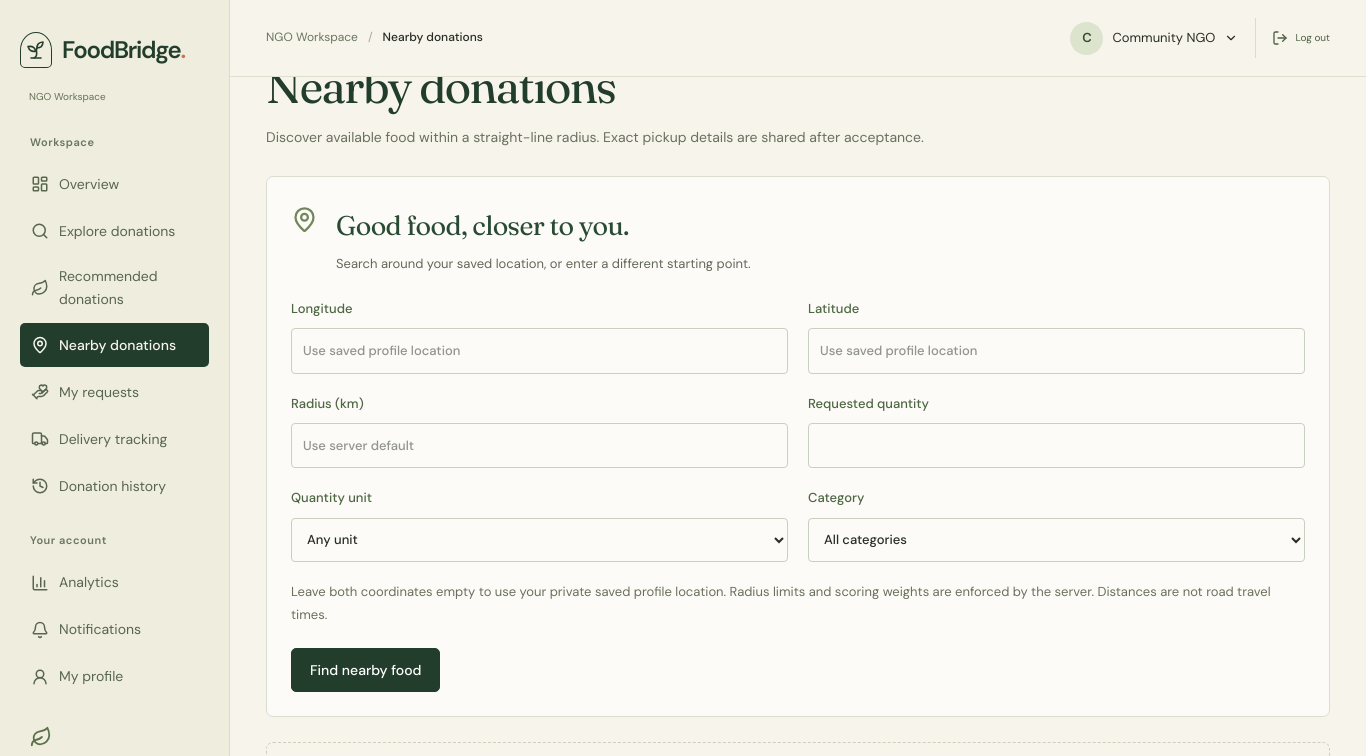
Test: location and matching interface › provides useful no-match and retry states
(page scrolled)
Submit the form named "Donation discovery", box [266,176,1330,717]
(page scrolled)
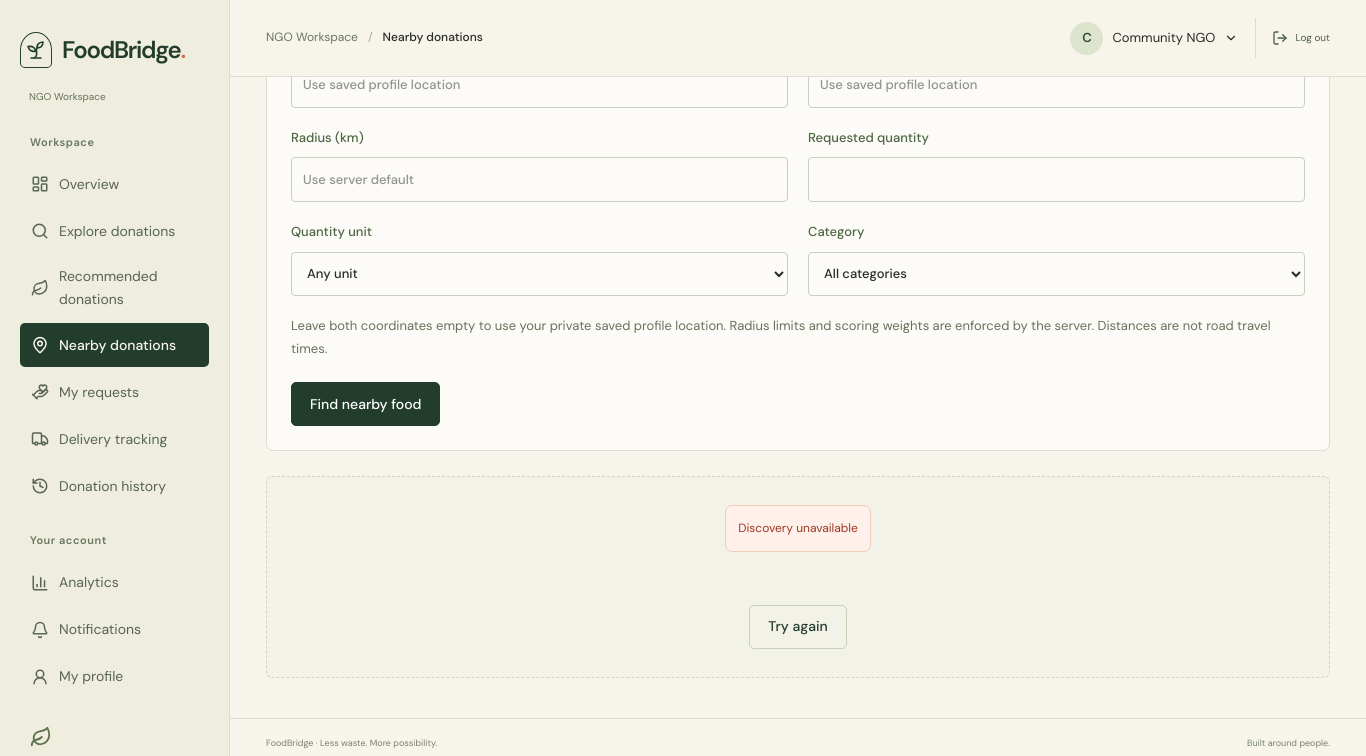
Now the message reads "Discovery unavailable", box [738,520,858,536]
Click the button "Try again".
click(798, 627)  # box [749,605,847,649]
(page scrolled)
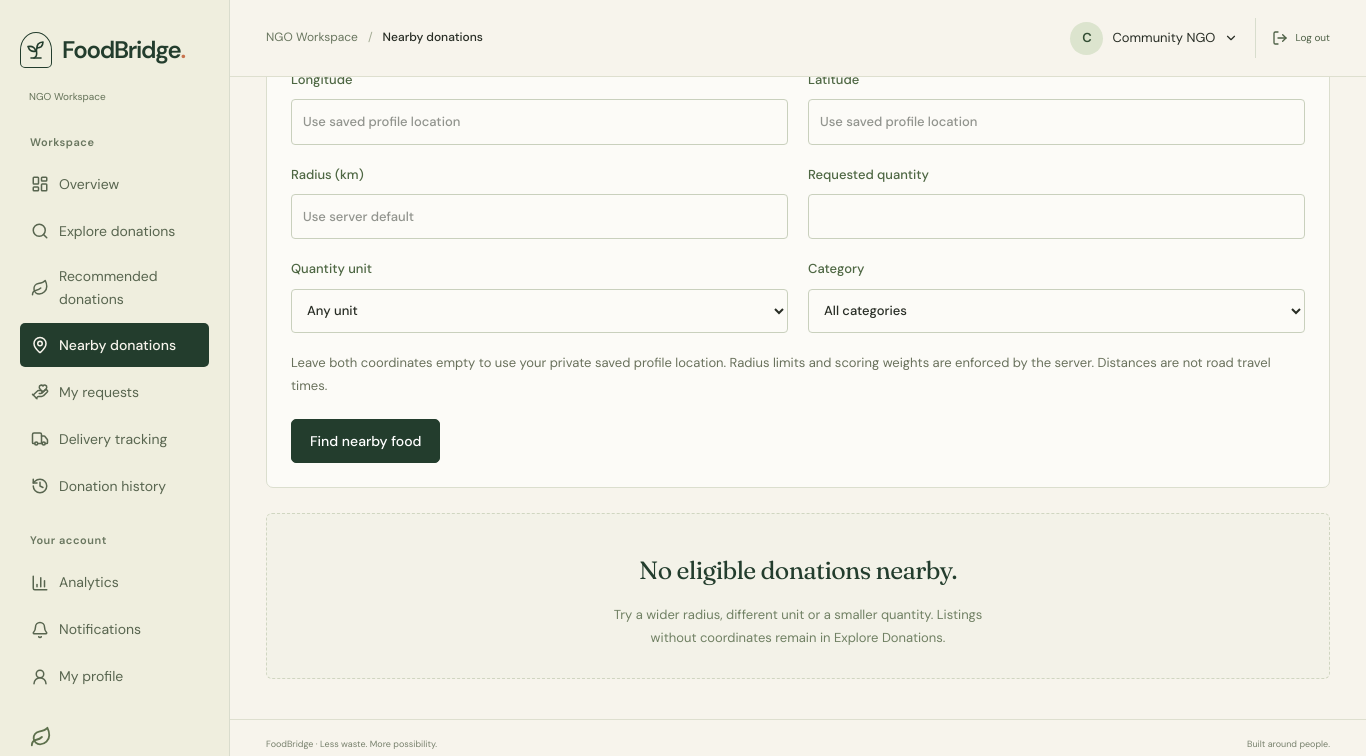
Now the heading "No eligible donations nearby." is shown, box [639,555,957,586]
